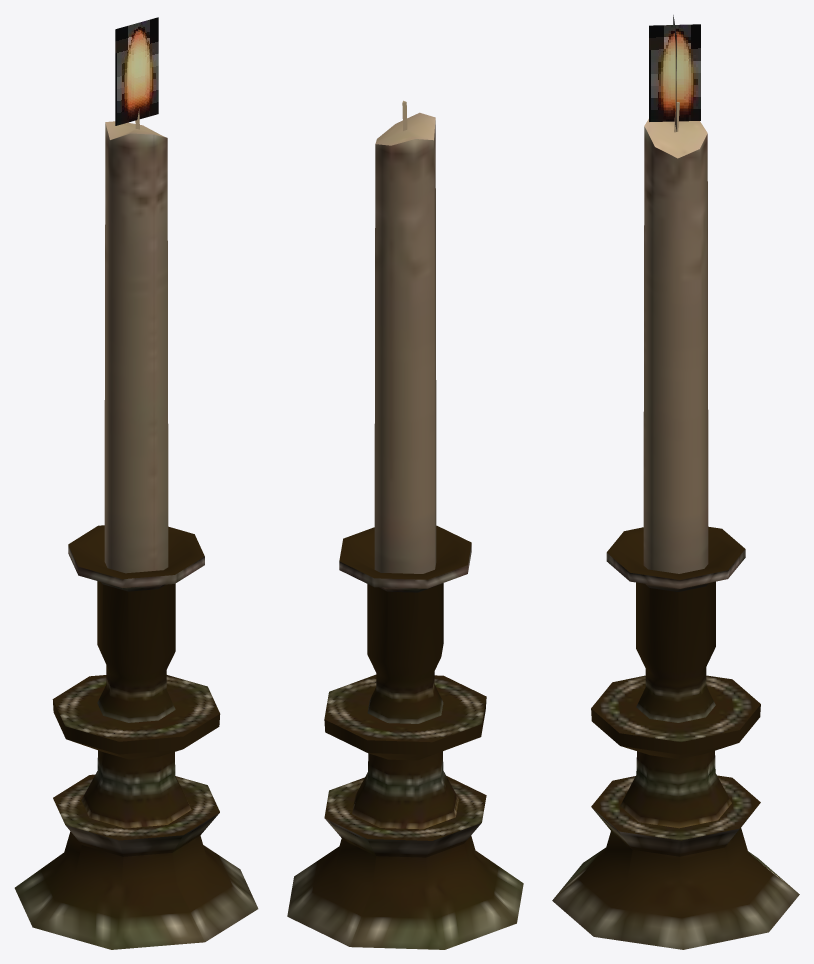
File: o_mdl_env_propCandleStickC_c-transformed.glb
The picture shows the model from 3 angles, left to right: view 1: azimuth 30°, elevation 25°; view 2: azimuth 150°, elevation 25°; view 3: azimuth 270°, elevation 25°; orthographic projection.
Visible parts, largest first — view 1: default; view 2: default; view 3: default.
Boxes of the visible parts, box(x1,y1,x2,y2) form: default: box(14, 17, 258, 949); default: box(287, 100, 523, 949); default: box(552, 15, 799, 949).
Bounding box in the file's own units: 0.1851 × 0.7192 × 0.1851.
2 materials, 2 textured.
